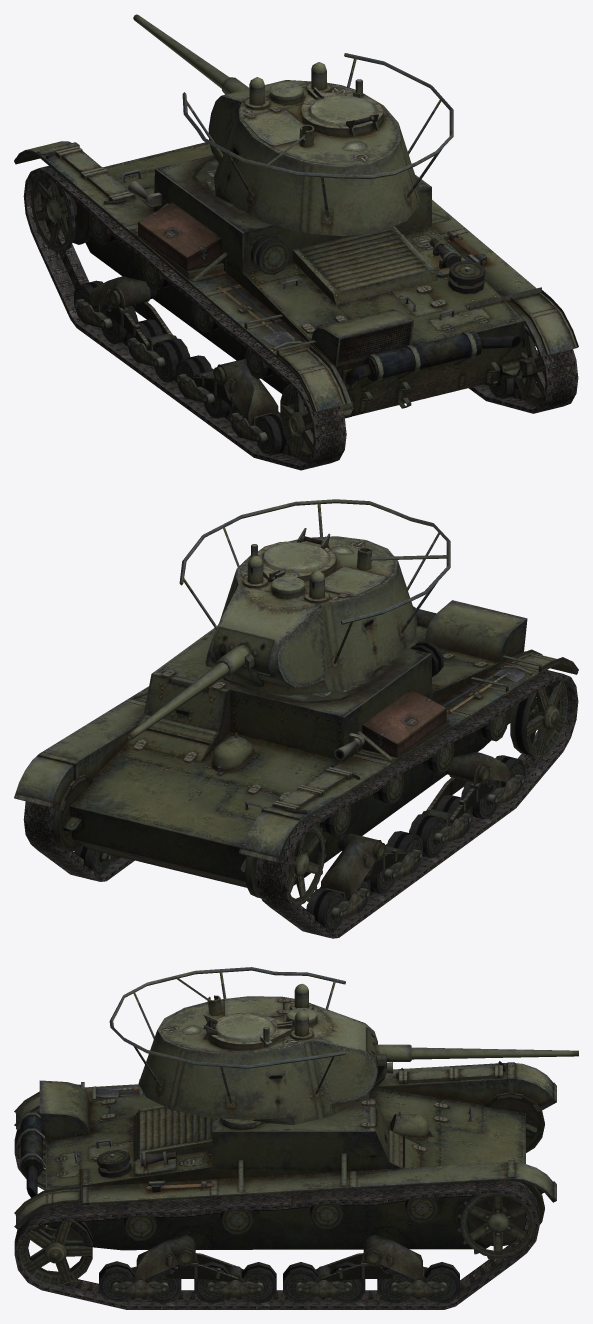
3 views of the same model, one above another, from view 1: azimuth 30°, elevation 25°; view 2: azimuth 150°, elevation 25°; view 3: azimuth 270°, elevation 25° (orthographic). The views are drawn at different scales.
Parts seen in each view (by area): view 1: vertices, vertices.001, chassis_RShape, track_LShape, gun_08Shape; view 2: vertices, vertices.001, chassis_RShape, track_LShape, gun_08Shape; view 3: vertices, vertices.001, chassis_RShape, track_LShape, gun_08Shape.
Part boxes in pixels (left/top/right/bottom): vertices: left=14, top=141, right=578, bottom=418; vertices.001: left=182, top=53, right=453, bottom=236; chassis_RShape: left=31, top=167, right=545, bottom=463; track_LShape: left=23, top=166, right=578, bottom=470; gun_08Shape: left=133, top=14, right=249, bottom=94; vertices: left=14, top=600, right=578, bottom=898; vertices.001: left=179, top=499, right=450, bottom=695; chassis_RShape: left=30, top=679, right=567, bottom=932; track_LShape: left=23, top=670, right=578, bottom=938; gun_08Shape: left=127, top=626, right=274, bottom=739; vertices: left=14, top=1061, right=556, bottom=1250; vertices.001: left=109, top=967, right=377, bottom=1124; chassis_RShape: left=19, top=1132, right=538, bottom=1303; track_LShape: left=14, top=1113, right=539, bottom=1309; gun_08Shape: left=366, top=1027, right=578, bottom=1086.
Bounding box in the file's own units: 2.38 × 2.4 × 4.83.
7 materials, 7 textured.
